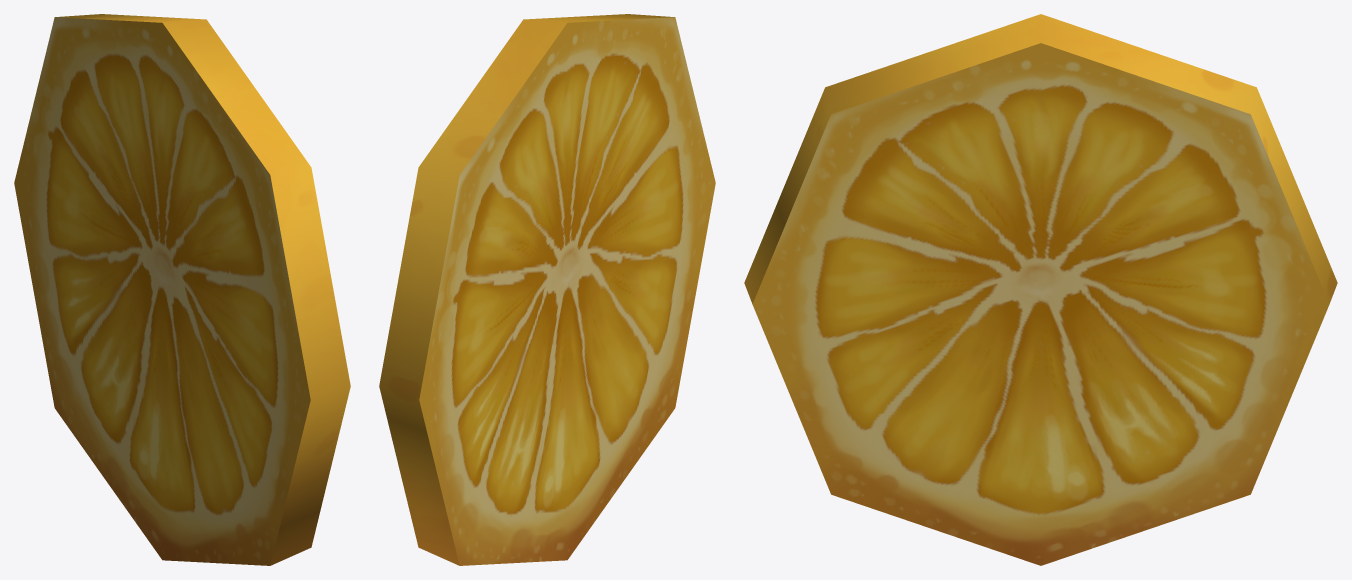
The model's file is lemonslice.fbx.
The picture shows the model from 3 angles, left to right: view 1: azimuth 30°, elevation 25°; view 2: azimuth 150°, elevation 25°; view 3: azimuth 270°, elevation 25°; orthographic projection.
Visible parts, largest first — view 1: lemonslice; view 2: lemonslice; view 3: lemonslice.
Part boxes in pixels (x1=…): lemonslice: x1=14, y1=14, x2=350, y2=565; lemonslice: x1=379, y1=14, x2=715, y2=565; lemonslice: x1=744, y1=14, x2=1337, y2=565.
Size of the model in its own units: 1.15 by 13.37 by 13.37.
